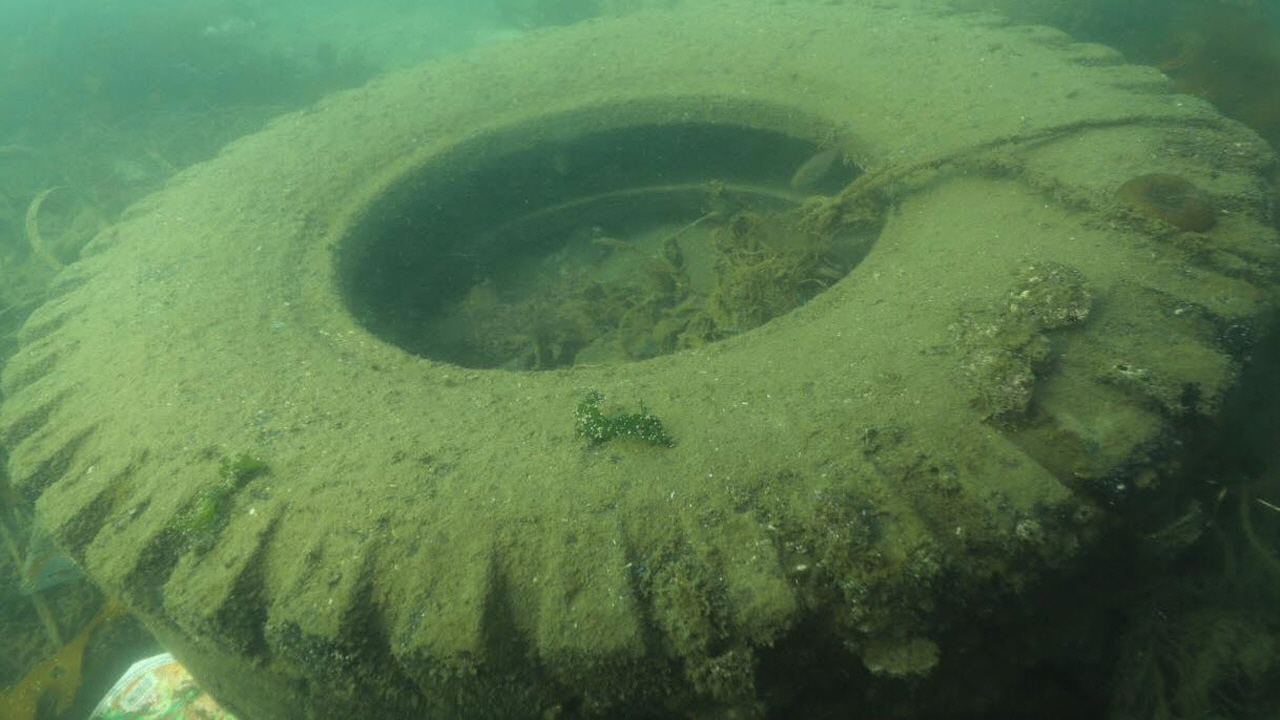tire: (1, 1, 1280, 720)
